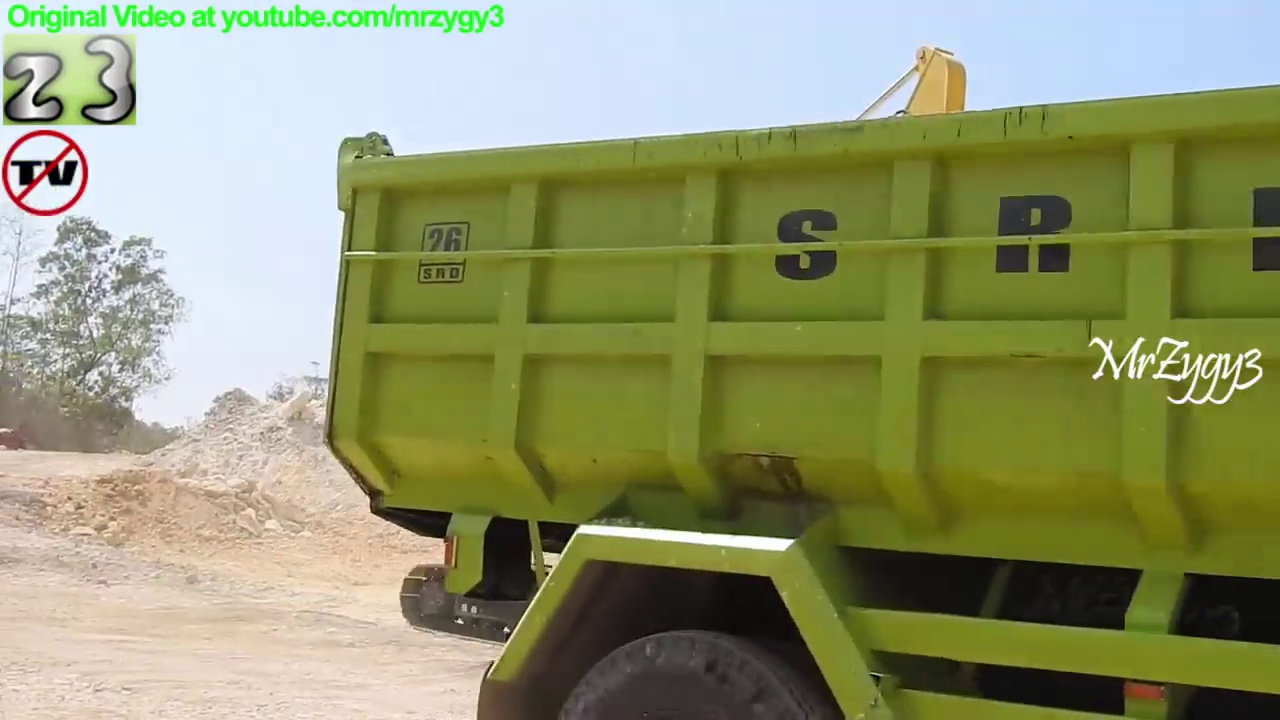truck: (315, 78, 1280, 720)
